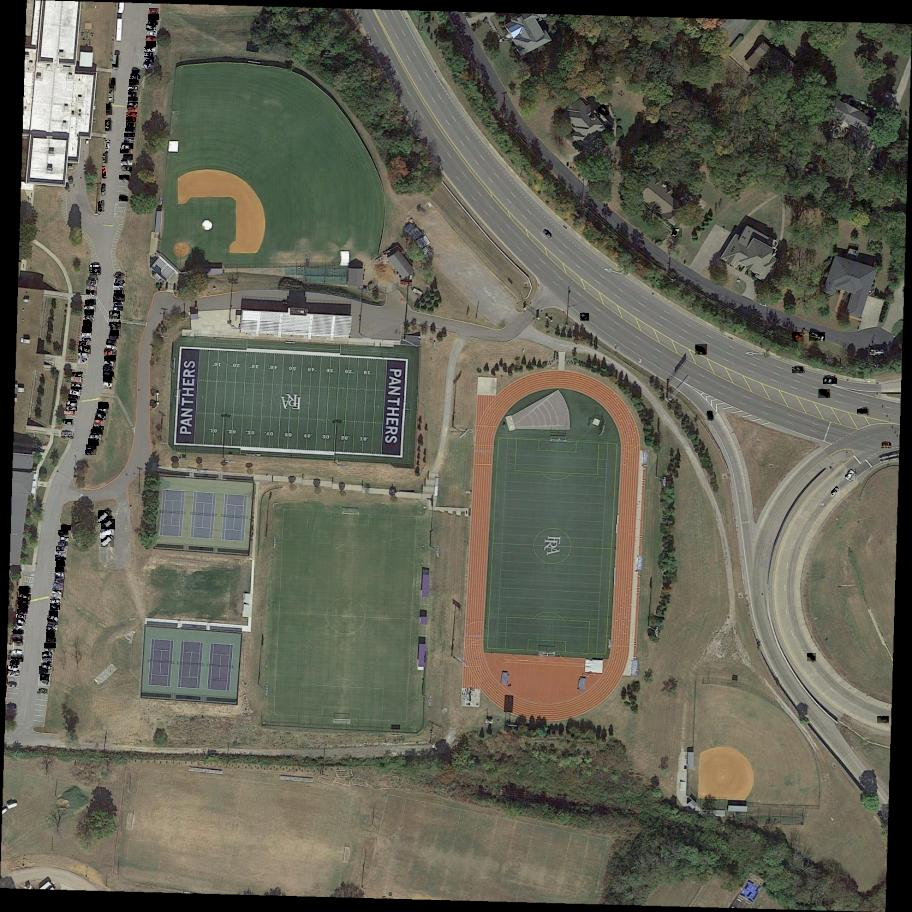small-vehicle: (101, 535, 116, 548), (99, 511, 113, 524), (695, 344, 708, 357), (809, 332, 825, 342), (101, 519, 115, 530), (101, 529, 116, 539), (846, 469, 857, 482), (877, 716, 890, 727), (793, 332, 804, 343), (39, 678, 51, 688), (819, 389, 831, 399), (109, 322, 122, 331), (599, 105, 609, 116), (832, 486, 842, 497), (79, 346, 91, 355), (106, 104, 115, 116), (109, 311, 121, 320), (113, 294, 125, 303), (18, 597, 30, 606), (13, 618, 25, 627), (19, 586, 31, 595), (109, 78, 117, 91), (543, 229, 553, 239), (673, 228, 682, 239), (95, 413, 106, 422), (114, 278, 126, 286), (8, 666, 20, 674), (19, 593, 31, 601), (93, 423, 105, 431), (62, 420, 74, 428), (54, 583, 64, 592), (40, 666, 51, 674), (18, 602, 29, 610), (88, 439, 99, 447), (94, 418, 105, 426), (98, 402, 109, 410), (89, 269, 101, 276), (122, 144, 134, 151), (792, 367, 804, 374), (823, 378, 837, 384), (91, 429, 103, 436), (68, 395, 80, 402), (55, 551, 67, 558), (580, 313, 589, 322), (807, 654, 816, 663), (82, 326, 92, 334), (107, 339, 117, 347), (131, 73, 141, 81), (46, 631, 56, 639), (16, 613, 26, 621), (104, 351, 117, 357), (106, 120, 113, 131), (98, 201, 105, 212), (103, 366, 114, 373), (41, 663, 52, 670), (102, 383, 113, 390), (84, 306, 96, 312), (148, 14, 160, 20), (78, 358, 88, 365), (87, 284, 97, 291), (106, 345, 116, 352), (13, 630, 23, 637), (40, 673, 50, 680), (46, 637, 56, 644), (50, 605, 60, 612), (59, 530, 69, 537), (105, 356, 116, 362), (144, 47, 155, 53), (146, 25, 157, 31), (112, 56, 118, 67), (123, 155, 134, 161), (126, 112, 137, 118), (42, 653, 53, 659), (87, 445, 98, 451), (97, 408, 108, 414), (70, 390, 81, 396), (119, 195, 128, 202), (145, 57, 154, 64), (122, 160, 131, 167), (83, 322, 93, 328), (81, 338, 91, 344), (105, 361, 115, 367), (146, 42, 156, 48), (149, 9, 159, 15), (128, 102, 138, 108), (17, 608, 27, 614), (64, 410, 74, 416), (55, 573, 65, 579), (48, 615, 58, 621), (87, 281, 98, 286), (45, 643, 56, 648), (66, 401, 77, 406), (72, 372, 83, 377), (110, 330, 119, 336), (48, 621, 57, 627), (50, 611, 59, 617), (61, 536, 70, 542), (109, 92, 114, 102), (101, 184, 106, 194), (88, 275, 98, 280), (126, 118, 136, 123), (708, 411, 713, 421), (61, 526, 71, 531), (71, 377, 81, 382), (50, 601, 60, 606), (86, 300, 94, 306), (104, 378, 112, 384), (11, 657, 23, 661), (8, 673, 20, 677), (82, 333, 91, 338), (110, 335, 119, 340), (10, 661, 19, 666), (46, 626, 55, 631), (56, 561, 65, 566), (103, 166, 107, 177), (41, 658, 52, 662), (66, 407, 77, 411), (71, 384, 82, 388), (62, 432, 73, 436), (105, 141, 111, 148), (79, 342, 87, 347), (113, 307, 123, 311), (146, 36, 156, 40), (147, 31, 157, 35), (149, 20, 157, 25), (129, 93, 137, 98), (12, 651, 22, 655), (858, 409, 868, 413), (881, 443, 891, 447), (51, 595, 61, 599), (55, 557, 65, 561), (85, 311, 94, 315), (83, 317, 92, 321), (120, 176, 129, 180), (122, 167, 131, 171), (129, 97, 138, 101), (45, 648, 54, 652), (87, 290, 94, 295), (124, 138, 135, 141), (103, 373, 114, 376), (120, 148, 128, 152), (130, 80, 138, 84), (15, 625, 23, 629), (13, 634, 21, 638), (90, 435, 98, 439), (56, 568, 64, 572), (114, 274, 124, 277), (90, 266, 100, 269), (114, 300, 121, 304), (104, 154, 107, 163), (114, 285, 123, 288), (128, 107, 137, 110), (13, 640, 22, 643), (38, 690, 47, 693), (86, 451, 95, 454), (115, 291, 123, 294), (144, 54, 152, 57), (127, 124, 135, 127), (59, 542, 65, 546), (144, 65, 151, 68), (132, 70, 139, 73), (56, 580, 63, 583), (57, 548, 64, 551), (125, 134, 134, 136), (79, 354, 87, 356), (125, 129, 133, 131), (130, 88, 138, 90), (53, 590, 61, 592)
